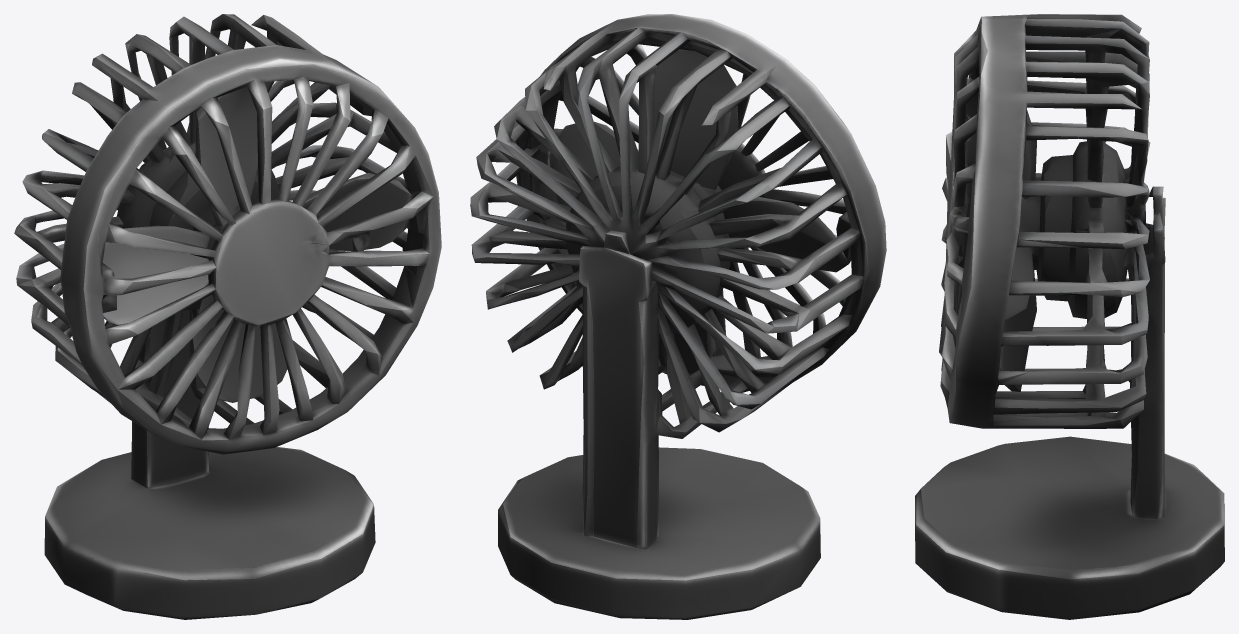
File: DeskFan.glb
The picture shows the model from 3 angles, left to right: view 1: azimuth 30°, elevation 25°; view 2: azimuth 150°, elevation 25°; view 3: azimuth 270°, elevation 25°; orthographic projection. The views are drawn at different scales.
Parts seen in each view (by area): view 1: geometry_0; view 2: geometry_0; view 3: geometry_0.
Part boxes in pixels (x1,y1,x2,y2): geometry_0: [14, 14, 441, 619]; geometry_0: [470, 14, 886, 619]; geometry_0: [915, 14, 1224, 619].
Size of the model in its own units: 0.2899 by 0.4 by 0.2174.
Materials: 1 (1 with a texture image).
